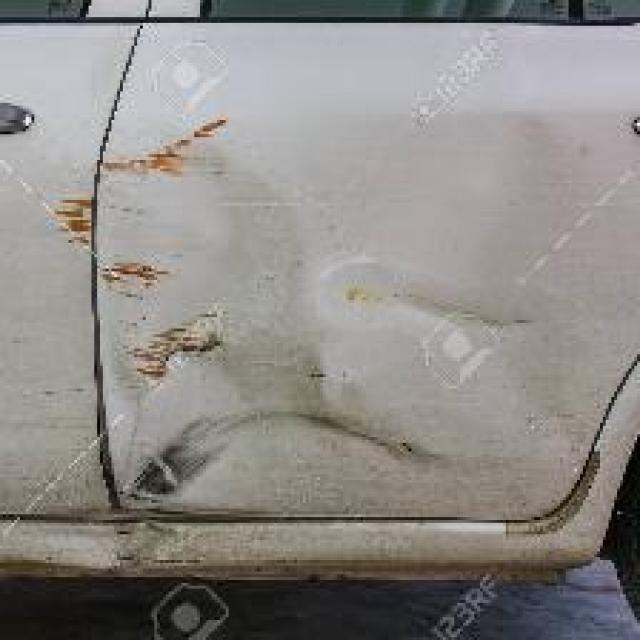damaged: (55, 117, 252, 574), (263, 249, 532, 477)
